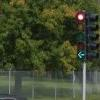Traffic light: (69, 8, 100, 68)
